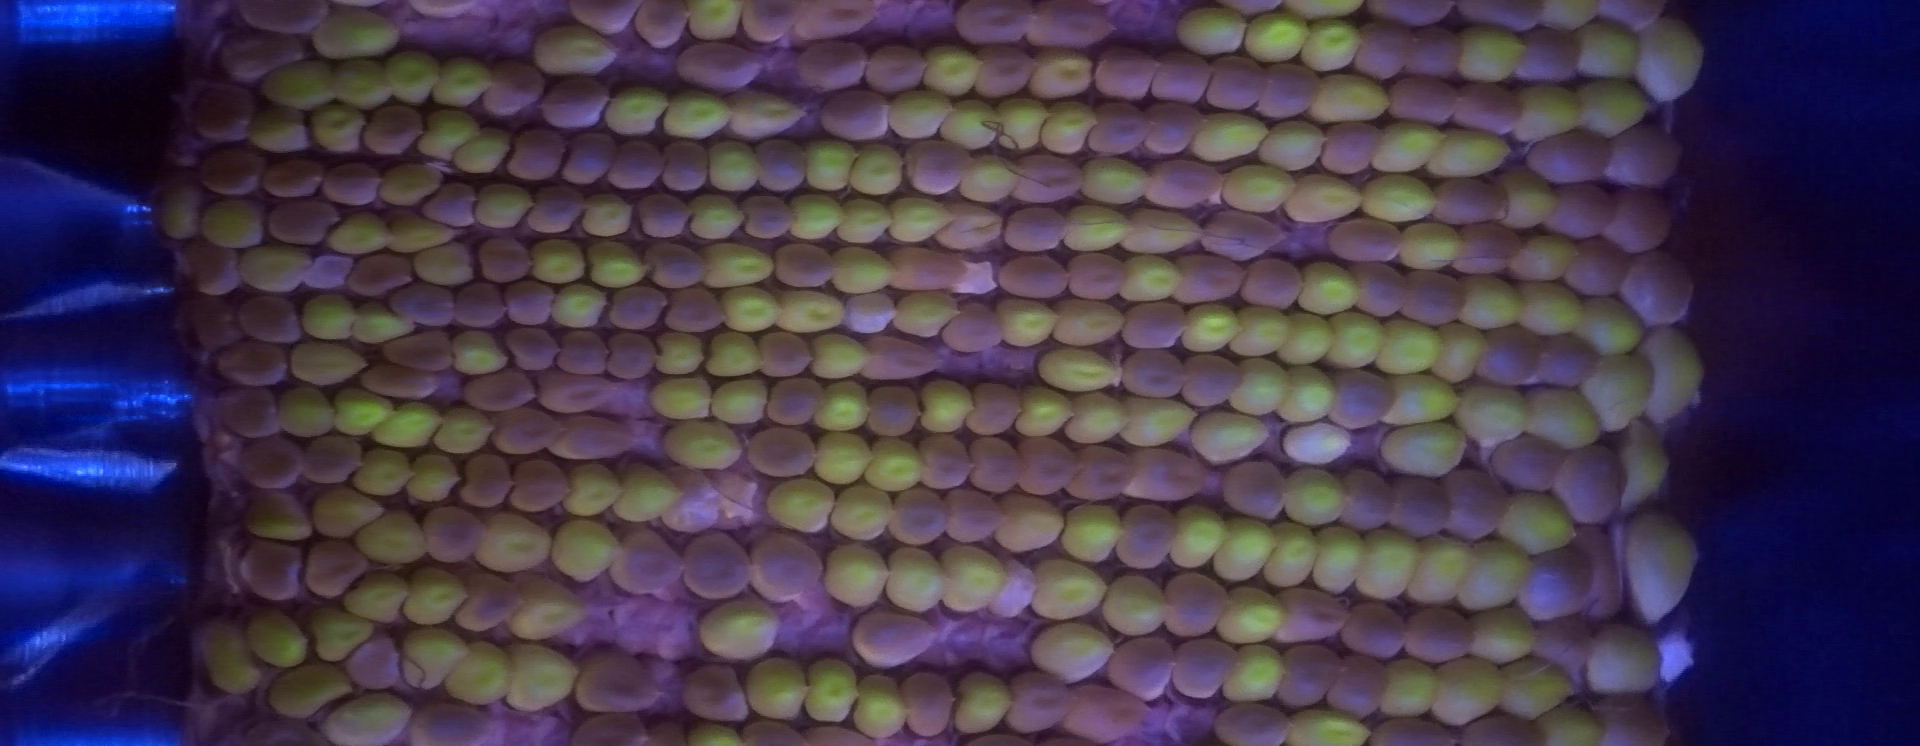fluorescent: (1611, 503, 1707, 635), (1629, 318, 1716, 430), (688, 587, 789, 675), (1571, 614, 1673, 701), (1627, 9, 1712, 111), (1575, 345, 1664, 441), (1396, 526, 1487, 619), (495, 635, 591, 722), (1447, 530, 1543, 617), (1344, 521, 1440, 608), (1487, 481, 1591, 561), (1509, 379, 1616, 454), (1296, 62, 1408, 134), (500, 570, 601, 647), (1420, 647, 1511, 733), (1485, 647, 1583, 725), (261, 654, 369, 725), (187, 615, 276, 701), (309, 681, 424, 746), (431, 635, 529, 710), (1025, 552, 1117, 633), (1160, 494, 1245, 579), (1567, 7, 1652, 94), (929, 534, 1013, 622), (1449, 370, 1539, 451), (1565, 69, 1659, 146), (300, 5, 405, 73), (1300, 519, 1384, 605), (1024, 612, 1120, 686), (1505, 273, 1597, 350), (1378, 415, 1476, 488), (1209, 507, 1292, 590), (1611, 414, 1678, 518), (1445, 17, 1536, 93), (836, 663, 918, 746), (1091, 565, 1176, 646), (541, 513, 629, 590), (1504, 77, 1592, 154), (469, 506, 560, 581), (873, 541, 960, 619), (1417, 121, 1520, 186), (1253, 514, 1335, 595), (792, 649, 871, 734), (1031, 338, 1129, 405), (520, 20, 620, 86), (817, 534, 899, 614), (1272, 458, 1356, 537), (1211, 637, 1296, 714), (251, 54, 351, 119), (1373, 369, 1473, 434), (1264, 356, 1352, 430), (1207, 578, 1297, 650), (1484, 162, 1569, 238), (1363, 314, 1455, 383), (711, 81, 808, 147), (1460, 601, 1548, 674), (1442, 267, 1532, 338), (1183, 407, 1284, 469), (735, 649, 817, 726), (605, 457, 692, 529), (389, 619, 476, 691), (1051, 383, 1139, 454), (392, 559, 480, 630), (1360, 113, 1455, 179), (1183, 105, 1277, 171), (991, 485, 1075, 559), (1237, 1, 1320, 75), (1351, 167, 1449, 229), (1567, 289, 1651, 363), (229, 485, 324, 549), (1109, 205, 1215, 262), (1251, 110, 1340, 179), (1371, 650, 1451, 726), (1212, 159, 1309, 222), (277, 334, 377, 394), (1016, 38, 1101, 109), (549, 454, 633, 526), (1167, 1, 1258, 67), (1277, 170, 1373, 233), (343, 505, 435, 570), (238, 605, 320, 677), (1318, 306, 1400, 379), (655, 413, 748, 477), (1056, 497, 1131, 575), (651, 83, 740, 149), (296, 599, 384, 665), (301, 481, 391, 546), (1116, 390, 1205, 454), (1071, 147, 1157, 214), (767, 279, 857, 343), (1220, 350, 1300, 421), (693, 235, 789, 295), (757, 469, 839, 539), (1391, 211, 1473, 281), (189, 194, 277, 258), (1044, 292, 1133, 356), (944, 661, 1018, 739), (1423, 317, 1500, 391), (1296, 6, 1368, 85), (320, 379, 407, 443), (819, 236, 904, 303), (1220, 303, 1305, 367), (856, 431, 936, 501), (909, 38, 991, 105), (231, 241, 323, 301), (820, 478, 896, 550), (808, 423, 887, 492), (144, 170, 216, 246), (411, 99, 491, 167), (1288, 255, 1368, 322), (1276, 414, 1367, 473), (419, 50, 501, 115), (336, 567, 422, 628), (880, 78, 958, 147), (573, 236, 661, 296), (696, 322, 778, 386), (1269, 307, 1351, 371), (1007, 377, 1081, 447), (989, 289, 1069, 354), (1172, 298, 1251, 363), (680, 186, 760, 250), (369, 394, 449, 458), (879, 190, 969, 247), (1056, 198, 1141, 258), (807, 374, 880, 443), (981, 89, 1059, 154), (269, 381, 348, 446), (323, 53, 404, 115), (375, 43, 448, 111), (931, 93, 1007, 159), (700, 367, 779, 431), (596, 81, 676, 143), (888, 283, 967, 345), (793, 131, 867, 198), (951, 145, 1027, 209), (828, 189, 904, 254), (441, 323, 519, 386), (1111, 249, 1191, 309), (697, 134, 771, 198), (424, 398, 500, 462), (713, 279, 791, 341), (240, 102, 323, 159), (913, 370, 981, 441), (302, 96, 375, 162), (291, 289, 371, 349), (1031, 93, 1104, 158), (464, 171, 539, 235), (520, 232, 595, 295), (779, 185, 855, 247), (399, 446, 471, 511), (448, 121, 524, 183), (800, 325, 876, 386), (643, 366, 720, 426), (320, 209, 407, 262), (841, 138, 912, 202), (1273, 701, 1373, 746), (542, 277, 617, 337), (340, 295, 421, 350), (345, 442, 422, 499), (407, 235, 481, 292), (375, 209, 460, 258), (372, 157, 444, 214), (1529, 697, 1613, 746), (644, 325, 716, 381), (573, 190, 640, 249), (840, 282, 909, 338), (680, 1, 748, 51)
nonfluorescent: (564, 639, 672, 722), (1545, 437, 1636, 533), (1616, 236, 1700, 338), (1516, 541, 1605, 635), (1433, 462, 1524, 550), (741, 521, 833, 608), (1600, 114, 1691, 201), (671, 526, 767, 605), (1569, 514, 1633, 631), (1524, 118, 1624, 191), (601, 521, 691, 601), (1056, 677, 1160, 746), (1321, 361, 1411, 441), (211, 24, 313, 93), (844, 608, 945, 675), (1376, 465, 1461, 546), (1396, 597, 1484, 673), (996, 663, 1085, 737), (1101, 628, 1185, 707), (1267, 635, 1352, 713), (1161, 628, 1247, 706), (1191, 207, 1300, 267), (1343, 10, 1425, 89), (671, 34, 771, 99), (178, 77, 263, 153), (1120, 441, 1209, 514), (1008, 428, 1089, 507), (1599, 181, 1680, 261), (1507, 17, 1589, 96), (1468, 317, 1551, 394), (1265, 581, 1357, 650), (1160, 563, 1237, 646), (1527, 611, 1604, 693), (1335, 595, 1419, 670), (291, 530, 380, 601), (1487, 428, 1575, 499), (541, 407, 644, 467), (1540, 178, 1629, 247), (1441, 217, 1531, 285), (447, 570, 533, 641), (1584, 685, 1684, 746), (1559, 230, 1636, 309), (1217, 450, 1297, 526), (1108, 495, 1184, 575), (1195, 49, 1277, 122), (1442, 71, 1528, 141), (672, 658, 759, 726), (1060, 435, 1140, 510), (893, 665, 967, 745), (1247, 55, 1327, 129), (1319, 646, 1400, 719), (1018, 1, 1123, 58), (482, 401, 572, 467), (415, 501, 500, 571), (811, 82, 901, 147), (883, 239, 975, 303), (1163, 249, 1259, 310), (184, 138, 273, 203), (1341, 254, 1420, 326), (1382, 69, 1471, 134), (533, 66, 616, 135), (1233, 250, 1316, 318), (1138, 154, 1231, 216), (1420, 171, 1515, 232), (229, 537, 316, 601), (789, 36, 880, 97), (1321, 209, 1413, 271), (471, 54, 549, 126), (898, 134, 976, 205), (852, 331, 947, 390), (1331, 462, 1403, 538), (503, 451, 580, 522), (233, 430, 320, 492), (1116, 294, 1199, 359), (1091, 38, 1164, 111), (527, 366, 624, 421), (375, 325, 467, 383), (936, 479, 1011, 550), (1532, 327, 1609, 397), (1392, 262, 1471, 331), (936, 298, 1018, 363), (229, 289, 311, 354), (960, 430, 1033, 502), (636, 235, 719, 299), (1142, 42, 1220, 110), (1201, 693, 1302, 746), (456, 359, 547, 416), (962, 40, 1048, 102), (743, 419, 824, 483), (933, 198, 1019, 258), (992, 249, 1078, 309), (857, 377, 931, 447), (912, 423, 981, 497), (1009, 149, 1087, 214), (1133, 98, 1213, 160), (885, 481, 958, 551), (1313, 113, 1389, 179), (599, 134, 676, 198), (1116, 343, 1199, 403), (208, 334, 299, 390), (296, 429, 376, 491), (860, 39, 940, 100), (656, 281, 737, 342), (448, 445, 524, 510), (948, 1, 1043, 53), (257, 195, 340, 254), (763, 235, 842, 296), (1397, 22, 1469, 89), (497, 126, 576, 187), (351, 359, 447, 409), (397, 699, 500, 746), (1081, 94, 1153, 160), (1059, 247, 1131, 314), (339, 631, 411, 697), (383, 278, 467, 334), (339, 250, 424, 305), (179, 292, 252, 354), (545, 322, 620, 383), (780, 1, 880, 47), (647, 135, 718, 198), (1000, 201, 1071, 265), (595, 327, 667, 390), (355, 100, 429, 162), (1172, 349, 1245, 410), (312, 159, 393, 214), (749, 134, 816, 201), (553, 129, 624, 191), (958, 379, 1029, 441), (520, 181, 593, 243), (600, 278, 675, 337), (744, 326, 820, 383), (178, 236, 249, 298), (444, 274, 517, 334), (628, 183, 696, 246), (760, 372, 833, 431), (1452, 706, 1554, 746), (253, 154, 333, 206), (216, 382, 288, 439), (735, 189, 803, 247), (235, 1, 331, 43), (495, 274, 564, 331), (500, 321, 567, 379), (471, 234, 541, 289), (1359, 710, 1466, 746), (623, 1, 693, 55), (418, 181, 487, 233), (732, 1, 804, 50), (560, 1, 645, 39)
